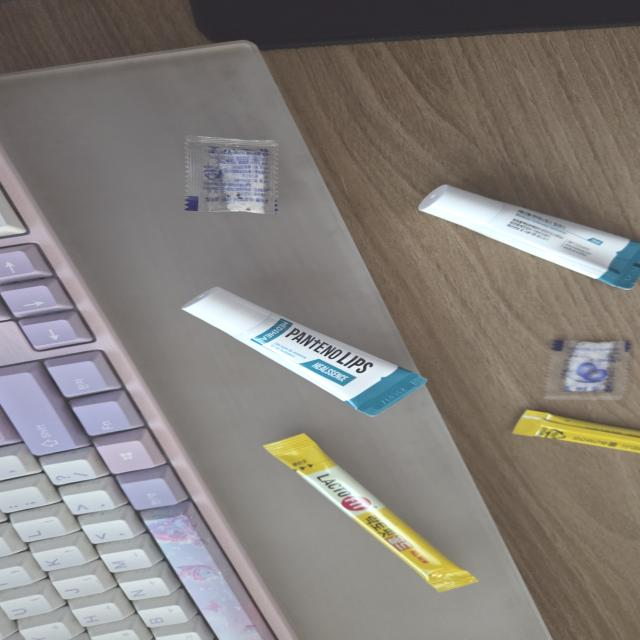lacto: (251, 433, 482, 594), (507, 410, 638, 460)
lib: (182, 285, 430, 419), (411, 183, 638, 291)
salt: (177, 134, 281, 219), (545, 334, 631, 401)
